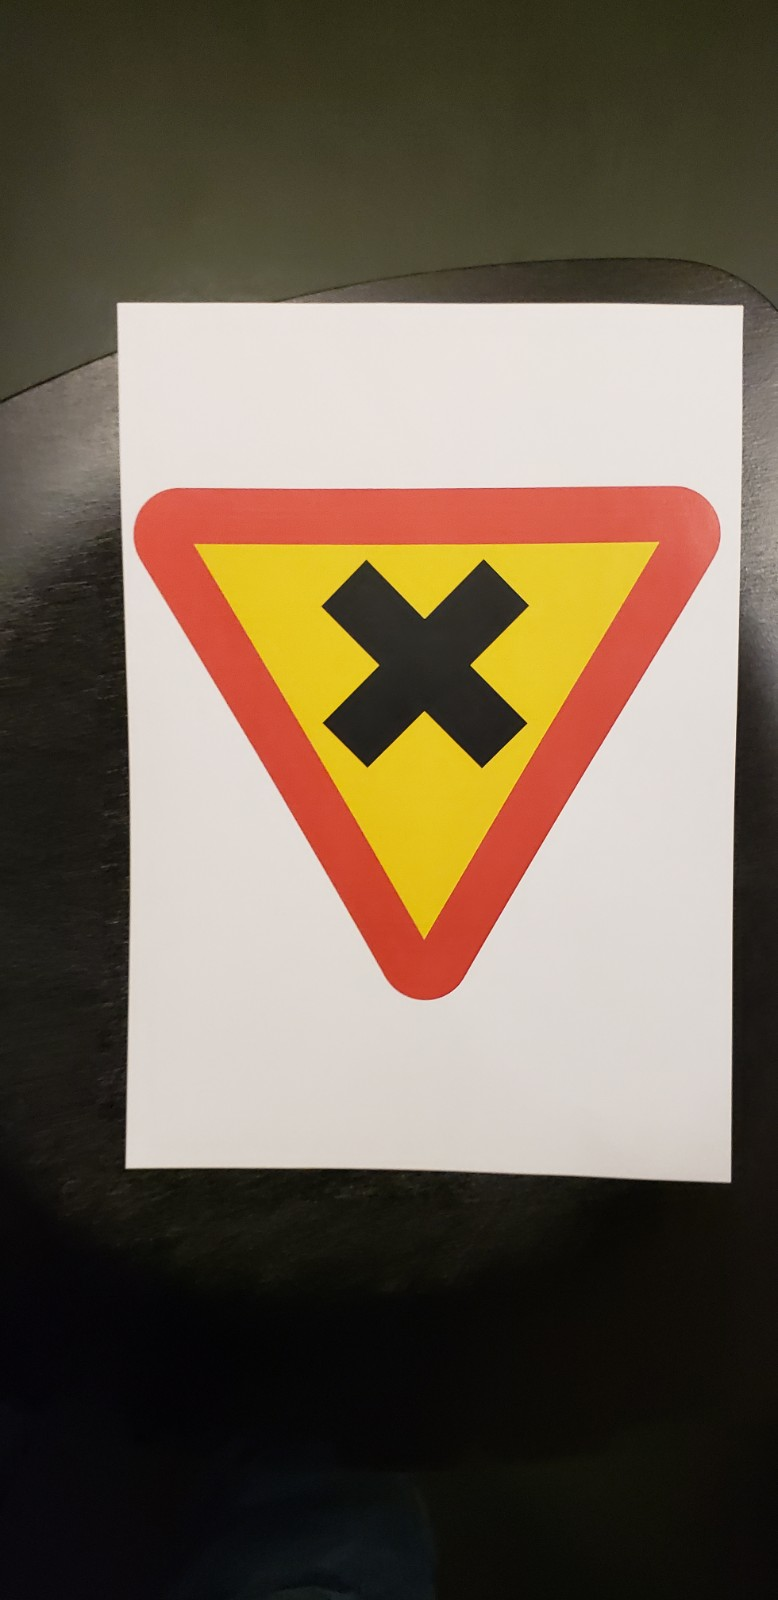junction: (117, 470, 700, 1015)
